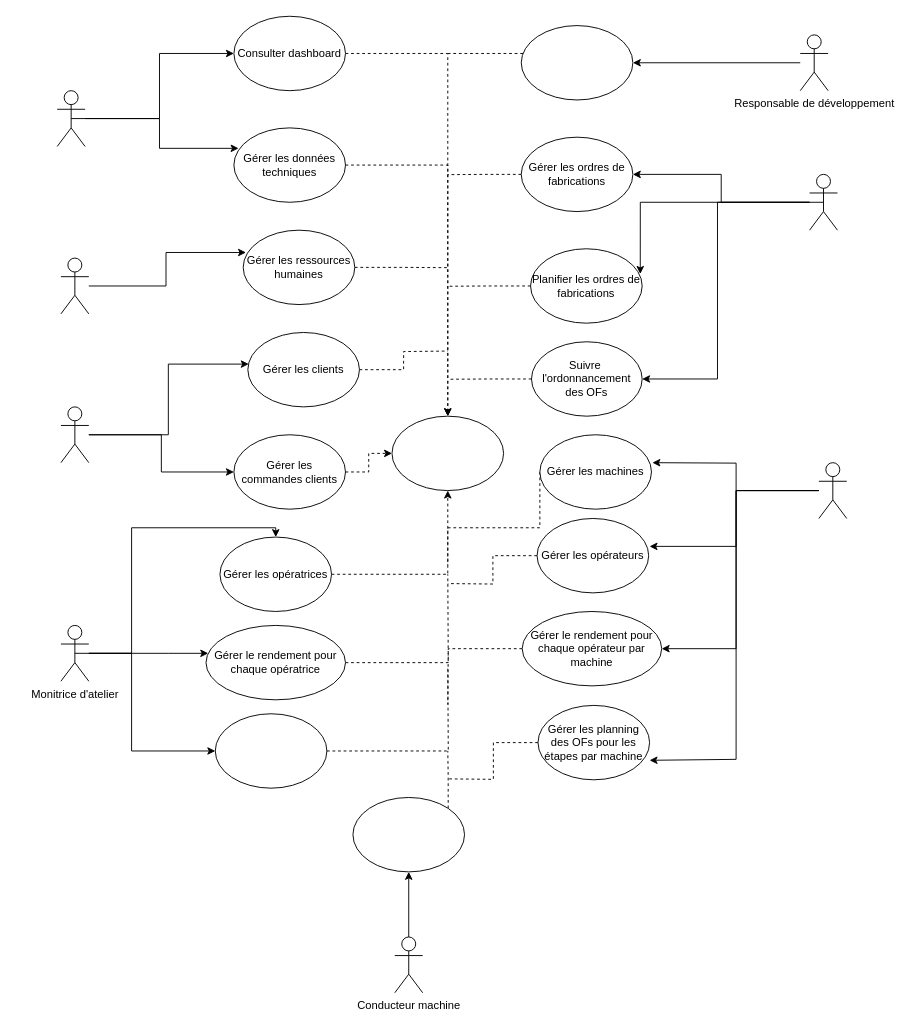
Image size: 913x1029. Some labels were removed from this diagram. Each missing label, with the centre of its shape:
Administrateur: (70,118)
Assistante commerciale: (74,434)
Chef d'atelier: (832,490)
Gérer l'état de la machine: (408,834)
Gérer les fiches techniques des articles: (576,62)
Gérer les planning des OFs pour les étapes manuelles: (270,750)
Responsable de la production: (823,201)
Responsable RH: (74,285)
S'authentifier: (447,453)
